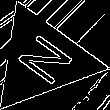N_SE: (7, 28, 77, 91)
